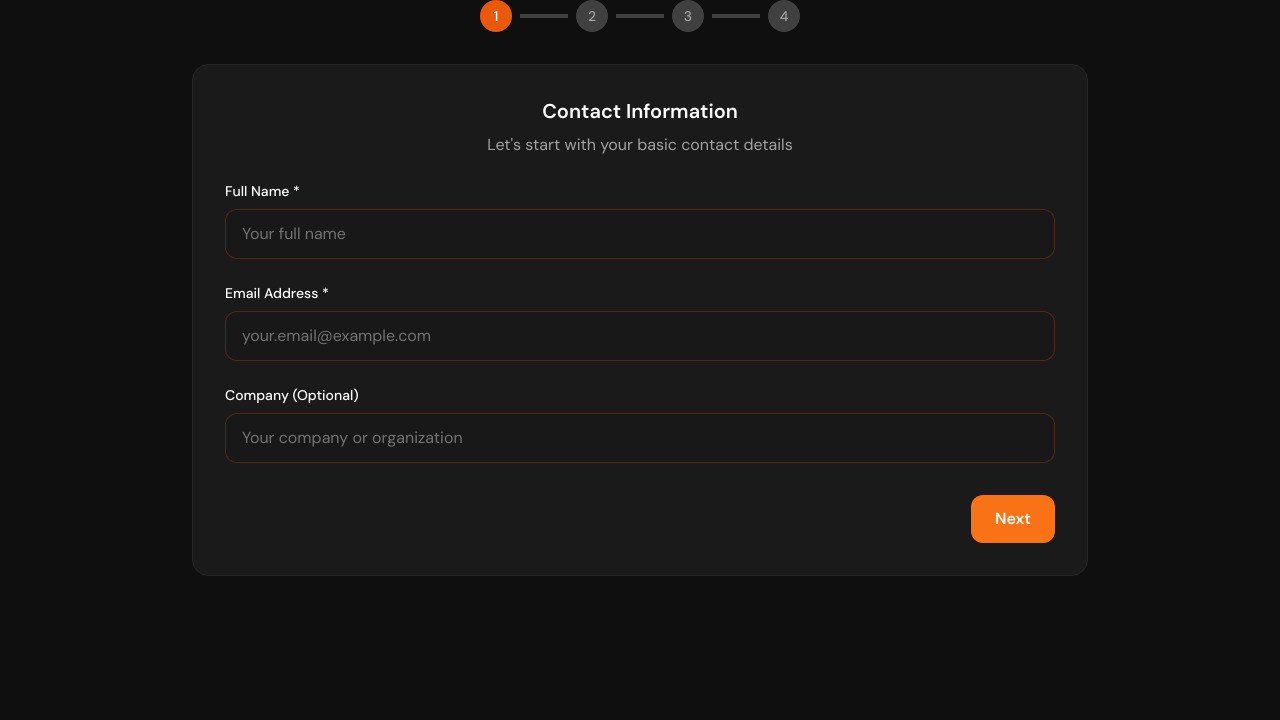
ProjectInquiryForm - Simple Tests › validates required fields in step 1
Click the button "Next".
click(1013, 519)  # box [971,495,1055,543]
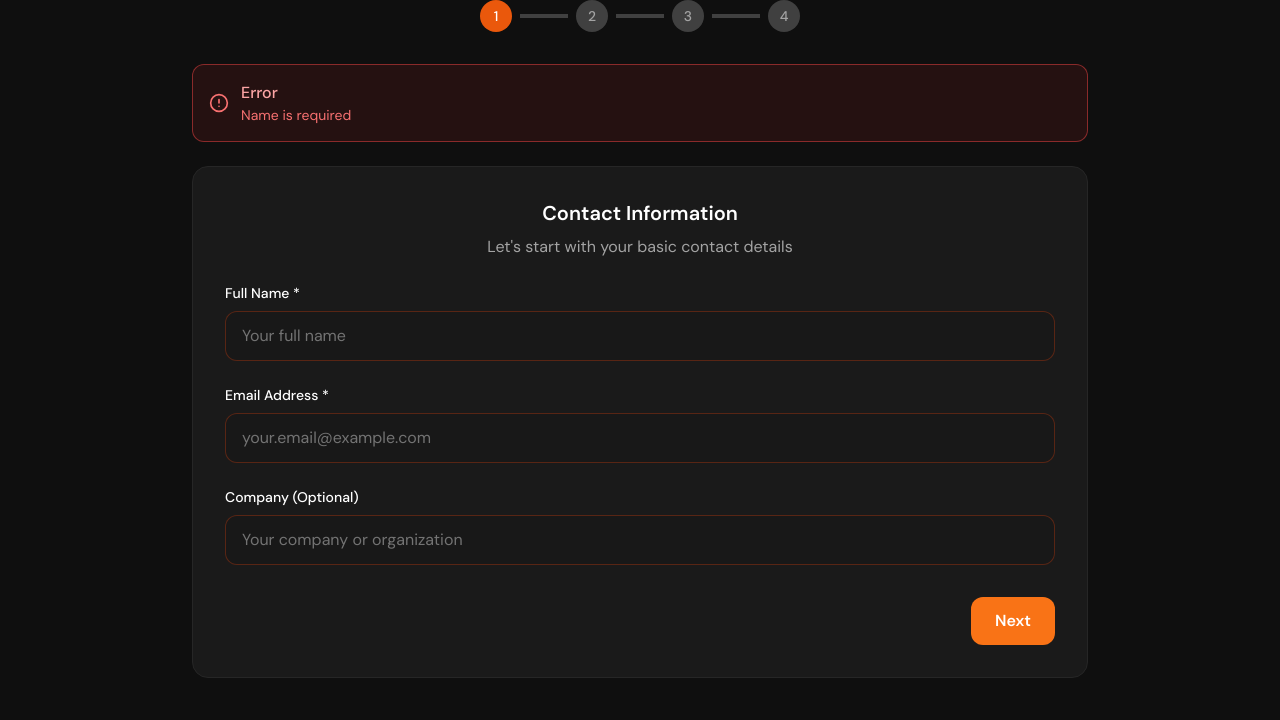
Result: the text "Name is required" is shown at [241,105,351,125]
